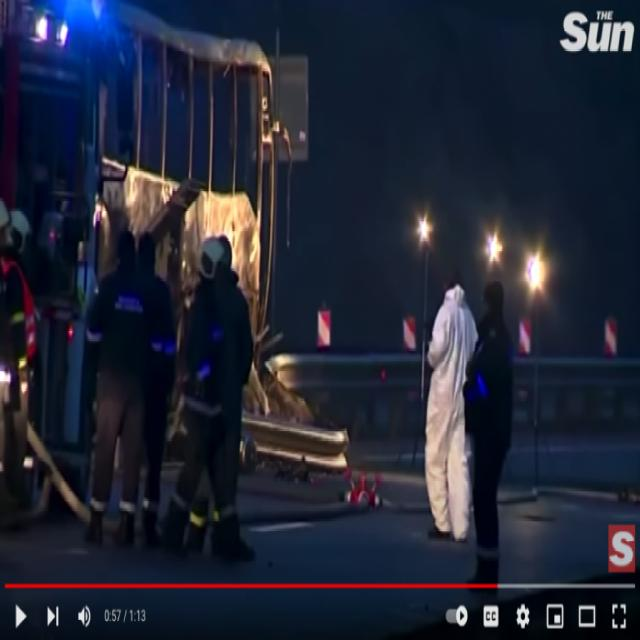Accident: (0, 0, 349, 511)
